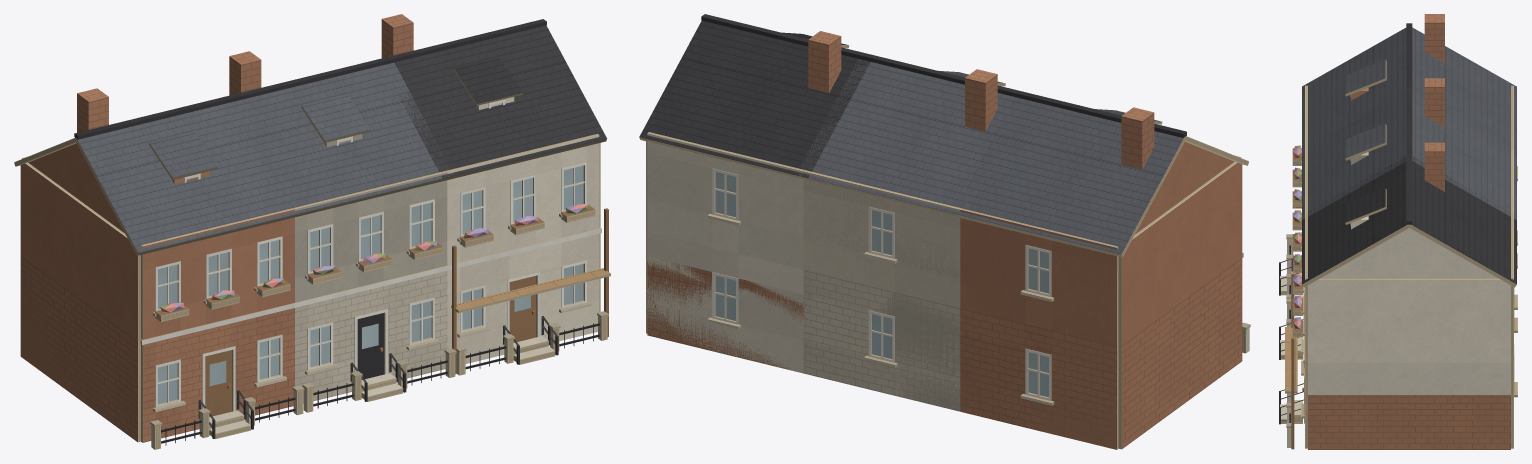
File: townhouses.glb
3 renders of one model, left to right at view 1: azimuth 30°, elevation 25°; view 2: azimuth 150°, elevation 25°; view 3: azimuth 270°, elevation 25°, orthographic. The views are drawn at different scales.
Visible parts, largest first — view 1: townhouses__1946__house0, townhouses__1986__house2, townhouses__1946__house1, townhouses__1986__house0, townhouses__1986__house1, townhouses__1946__house2, townhouses__2026__house0, townhouses__2026__house1, townhouses__2026__house2; view 2: townhouses__1946__house0, townhouses__1986__house2, townhouses__1946__house1, townhouses__1986__house0, townhouses__1986__house1, townhouses__1946__house2; view 3: townhouses__1986__house2, townhouses__1946__house1, townhouses__1946__house0, townhouses__1946__house2, townhouses__2026__house2, townhouses__2026__house0, townhouses__2026__house1, townhouses__1986__house1.
Boxes of the visible parts, x1,y1,x2,y2 form: townhouses__1946__house0: (14,88,304,449); townhouses__1986__house2: (379,14,608,375); townhouses__1946__house1: (229,51,456,412); townhouses__1986__house0: (20,88,294,440); townhouses__1986__house1: (230,51,447,302); townhouses__1946__house2: (451,208,610,374); townhouses__2026__house0: (155,278,290,416); townhouses__2026__house1: (307,241,442,379); townhouses__2026__house2: (459,203,595,247); townhouses__1946__house0: (952,90,1250,449); townhouses__1986__house2: (639,14,870,373); townhouses__1946__house1: (796,52,1027,411); townhouses__1986__house0: (960,107,1242,449); townhouses__1986__house1: (803,69,990,411); townhouses__1946__house2: (647,260,803,371); townhouses__1986__house2: (1279,142,1517,447); townhouses__1946__house1: (1279,78,1517,359); townhouses__1946__house0: (1279,14,1517,298); townhouses__1946__house2: (1285,273,1513,449); townhouses__2026__house2: (1292,274,1302,337); townhouses__2026__house0: (1292,145,1301,208); townhouses__2026__house1: (1292,210,1301,272); townhouses__1986__house1: (1351,79,1444,164).
Size of the model in its own units: 9.24 by 5.4 by 4.71.
Materials: 9 (9 with a texture image).
